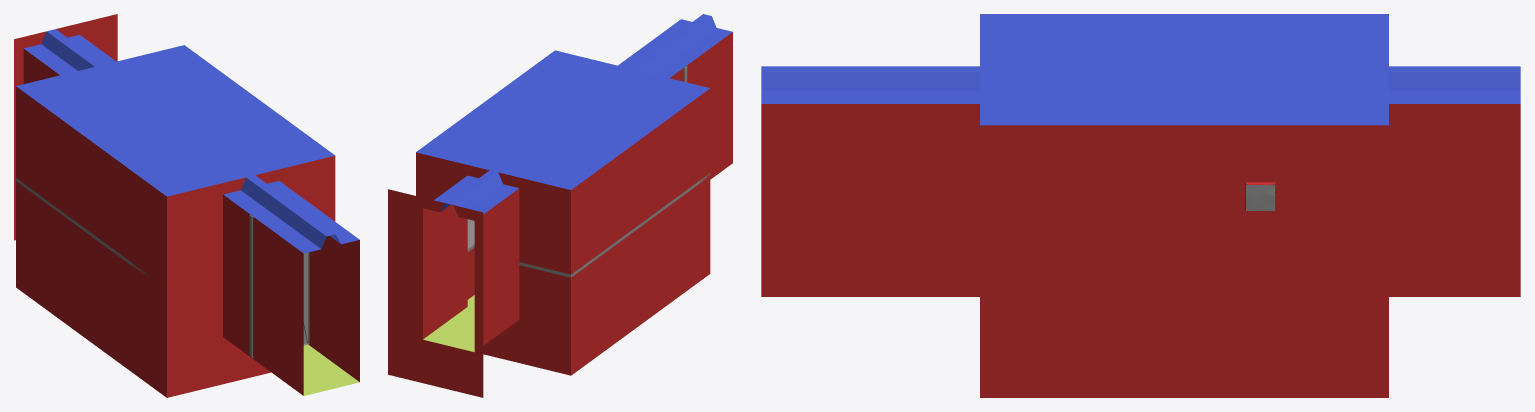
File: FactoryRoomExtension.FBX
The picture shows the model from 3 angles, left to right: view 1: azimuth 30°, elevation 25°; view 2: azimuth 150°, elevation 25°; view 3: azimuth 270°, elevation 25°; orthographic projection. The views are drawn at different scales.
Parts seen in each view (by area): view 1: Wall01, Ceiling001, Wall03, EndWall01, EndWall02, EndCeiling, StartWall, StartCeiling, EndFloor, StartWall01, IronGateDoor01, IronGateDoor02 (+1 smaller); view 2: Wall01, Ceiling001, Wall02, StartWall, StartWall02, StartWall01, EndWall01, EndCeiling, StartCeiling, StartFloor, Platform02, SwitchPlatformWall; view 3: SwitchPlatformWall, Ceiling001, EndWall02, StartWall02, EndCeiling, StartCeiling.
Boxes of the visible parts, x1,y1,x2,y2 form: Wall01: [16, 86, 166, 397]; Ceiling001: [16, 45, 334, 196]; Wall03: [167, 156, 335, 397]; EndWall01: [223, 194, 303, 395]; EndWall02: [308, 236, 359, 381]; EndCeiling: [223, 175, 359, 253]; StartWall: [14, 14, 117, 240]; StartCeiling: [24, 29, 115, 75]; EndFloor: [303, 344, 359, 395]; StartWall01: [23, 49, 59, 83]; IronGateDoor01: [303, 252, 309, 345]; IronGateDoor02: [249, 215, 253, 357]; Wall01: [571, 88, 710, 375]; Ceiling001: [416, 50, 709, 189]; Wall02: [416, 152, 570, 375]; StartWall: [388, 189, 483, 397]; StartWall02: [423, 204, 467, 339]; StartWall01: [483, 188, 519, 345]; EndWall01: [670, 32, 732, 179]; EndCeiling: [618, 14, 732, 78]; StartCeiling: [434, 170, 518, 214]; StartFloor: [423, 307, 474, 352]; Platform02: [519, 173, 709, 277]; SwitchPlatformWall: [467, 247, 474, 299]; SwitchPlatformWall: [980, 125, 1388, 397]; Ceiling001: [980, 14, 1388, 125]; EndWall02: [761, 104, 979, 296]; StartWall02: [1389, 104, 1520, 296]; EndCeiling: [761, 66, 979, 103]; StartCeiling: [1389, 66, 1520, 103].
Bounding box in the file's own units: 1163 × 3281 × 1300.
